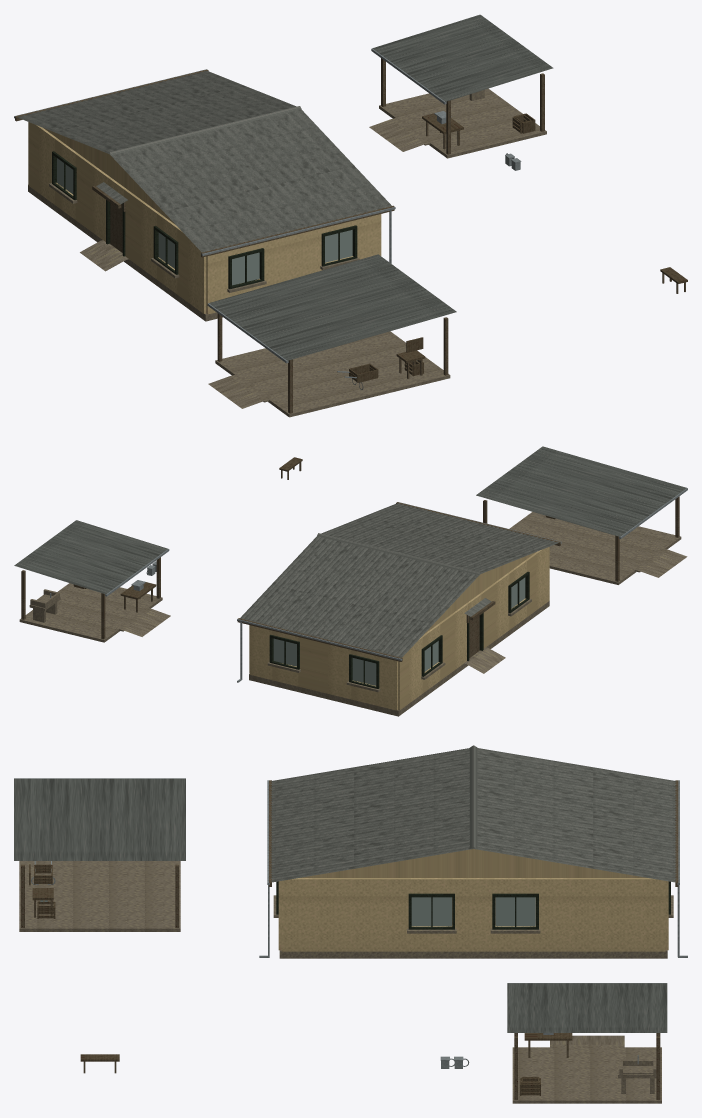
The picture shows the model from 3 angles, top to bottom: view 1: azimuth 30°, elevation 25°; view 2: azimuth 150°, elevation 25°; view 3: azimuth 270°, elevation 25°; orthographic projection. The views are drawn at different scales.
Visible parts, largest first — view 1: H29_CHAPAS_ONDULADAS, H29_GARAGEM_CHAPAS_UMA_AGUA, H29_GARAGEM_BASE, H29_FACHADA, H29_SELECAO_FRUTAS_CHAPAS_UMA_AGUA, H29_SELECAO_FRUTAS_BASE, H29_LATERAIS, H29_VIDROS_RECUADOS, H29_CAIXILHOS, H29_OITOES, H29_BEIRAIS, H29_FUNDACAO (+7 smaller); view 2: H29_CHAPAS_ONDULADAS, H29_GARAGEM_CHAPAS_UMA_AGUA, H29_FACHADA, H29_SELECAO_FRUTAS_CHAPAS_UMA_AGUA, H29_GARAGEM_BASE, H29_LATERAIS, H29_SELECAO_FRUTAS_BASE, H29_FUNDACAO, H29_VIDROS_RECUADOS, H29_CAIXILHOS, H29_OITOES, H29_BEIRAIS (+8 smaller); view 3: H29_CHAPAS_ONDULADAS, H29_FUNDOS, H29_GARAGEM_CHAPAS_UMA_AGUA, H29_GARAGEM_BASE, H29_SELECAO_FRUTAS_CHAPAS_UMA_AGUA, H29_SELECAO_FRUTAS_BASE, H29_OITOES, H29_FUNDACAO, H29_VIDROS_RECUADOS, H29_CAIXILHOS, H29_CUMEEIRA, H29_BEIRAIS (+4 smaller).
Part boxes in pixels (<box>): H29_CHAPAS_ONDULADAS: <box>17,71,391,252</box>; H29_GARAGEM_CHAPAS_UMA_AGUA: <box>209,254,456,360</box>; H29_GARAGEM_BASE: <box>215,331,450,417</box>; H29_FACHADA: <box>28,122,206,313</box>; H29_SELECAO_FRUTAS_CHAPAS_UMA_AGUA: <box>372,14,553,101</box>; H29_SELECAO_FRUTAS_BASE: <box>379,88,546,158</box>; H29_LATERAIS: <box>206,214,380,314</box>; H29_VIDROS_RECUADOS: <box>57,158,352,285</box>; H29_CAIXILHOS: <box>52,151,357,289</box>; H29_OITOES: <box>44,128,175,224</box>; H29_BEIRAIS: <box>15,69,394,257</box>; H29_FUNDACAO: <box>28,185,222,321</box>; H29_CHAPAS_ONDULADAS: <box>240,503,558,657</box>; H29_GARAGEM_CHAPAS_UMA_AGUA: <box>476,446,686,536</box>; H29_FACHADA: <box>398,547,549,709</box>; H29_SELECAO_FRUTAS_CHAPAS_UMA_AGUA: <box>14,520,167,594</box>; H29_GARAGEM_BASE: <box>509,512,681,584</box>; H29_LATERAIS: <box>250,625,397,710</box>; H29_SELECAO_FRUTAS_BASE: <box>19,583,162,642</box>; H29_FUNDACAO: <box>249,601,549,716</box>; H29_VIDROS_RECUADOS: <box>273,577,525,685</box>; H29_CAIXILHOS: <box>269,571,529,688</box>; H29_OITOES: <box>424,552,535,633</box>; H29_BEIRAIS: <box>237,502,560,661</box>; H29_CHAPAS_ONDULADAS: <box>271,748,676,882</box>; H29_FUNDOS: <box>281,878,665,951</box>; H29_GARAGEM_CHAPAS_UMA_AGUA: <box>14,778,185,860</box>; H29_GARAGEM_BASE: <box>19,861,180,931</box>; H29_SELECAO_FRUTAS_CHAPAS_UMA_AGUA: <box>507,983,667,1032</box>; H29_SELECAO_FRUTAS_BASE: <box>512,1047,661,1103</box>; H29_OITOES: <box>300,849,646,877</box>; H29_FUNDACAO: <box>279,897,667,958</box>; H29_VIDROS_RECUADOS: <box>411,897,535,926</box>; H29_CAIXILHOS: <box>276,881,670,929</box>; H29_CUMEEIRA: <box>469,745,477,848</box>; H29_BEIRAIS: <box>269,780,678,886</box>.
Bounding box in the file's own units: 21.73 × 4.28 × 22.55.
11 materials, 9 textured.
